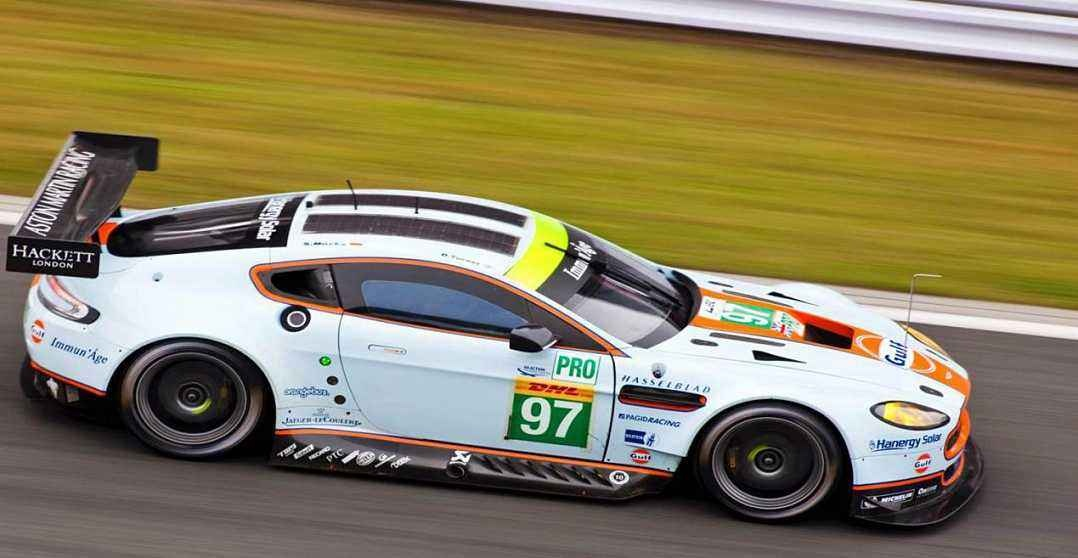racing car: (9, 112, 976, 526)
